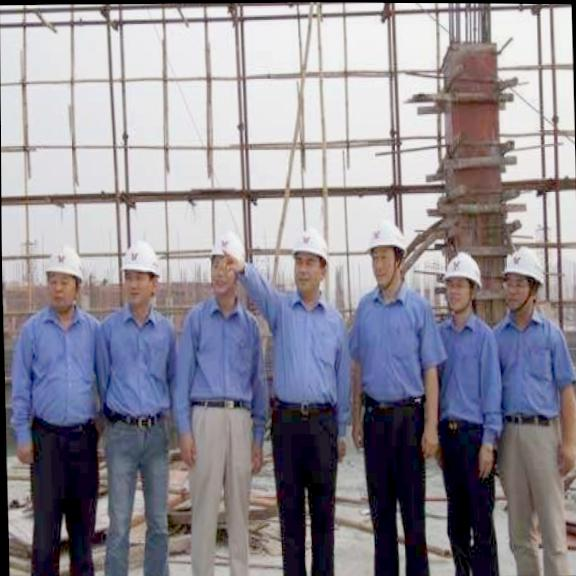no_safety_vest: (8, 305, 112, 431), (351, 280, 444, 404), (261, 287, 354, 408), (100, 303, 185, 422), (174, 299, 262, 412), (494, 307, 576, 422), (436, 306, 503, 430)
